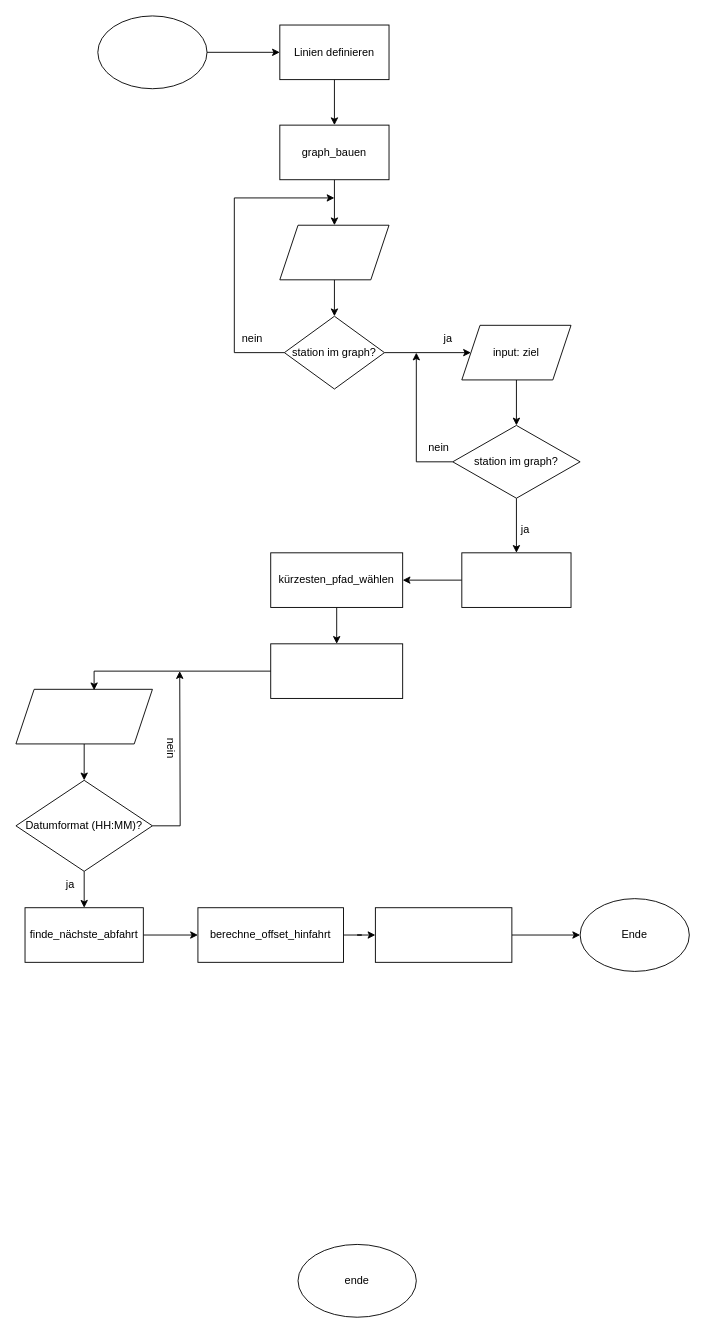
The diagram is 705 pixels wide and 1333 high, and some of its shapes have lost their labels. Here are the shapes that lost their labels. From the top down, the box of each, then its label:
(97, 15, 207, 89): start
(279, 224, 389, 280): input: start
(461, 552, 571, 607): alle_pfade finden
(270, 643, 403, 698): prüfe Richtung
(15, 688, 152, 744): frage_wunschzeit
(374, 907, 512, 962): berechne_offset_rückfahrt
